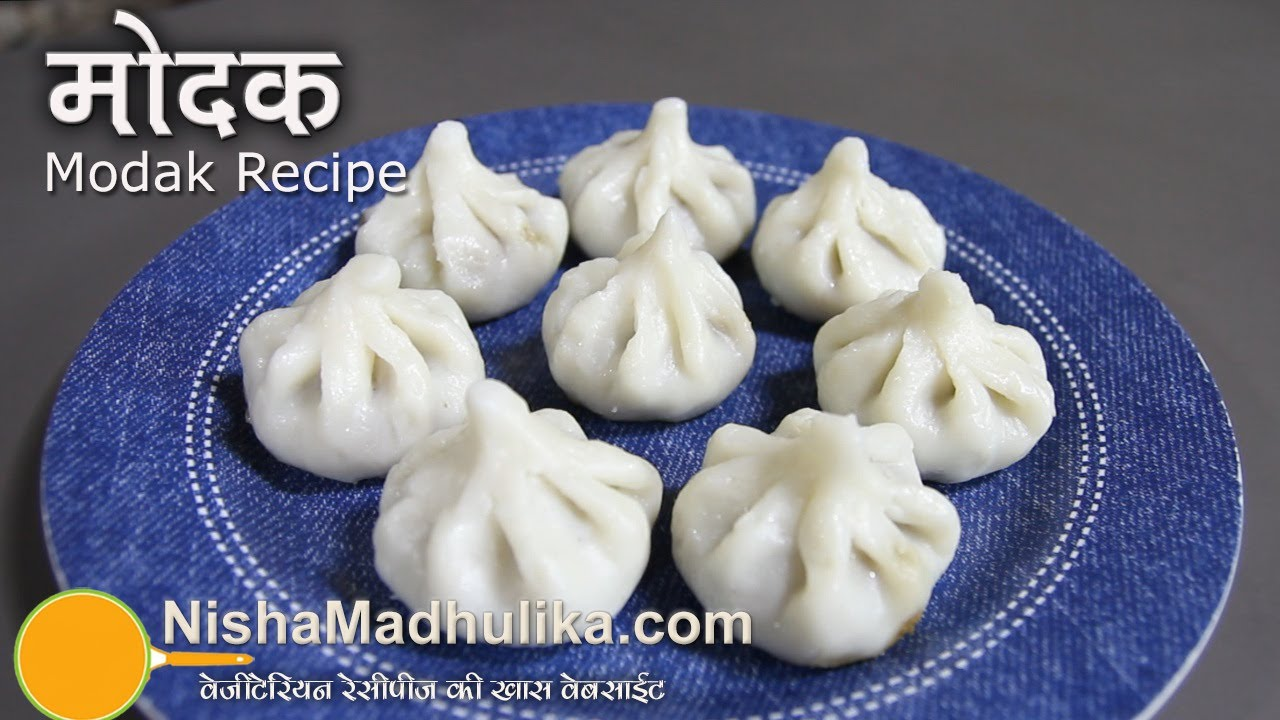modak: (661, 378, 969, 674), (387, 387, 662, 635), (809, 281, 1078, 482), (237, 264, 498, 464), (532, 208, 769, 410), (365, 120, 577, 299), (573, 87, 786, 258), (762, 140, 961, 307)
